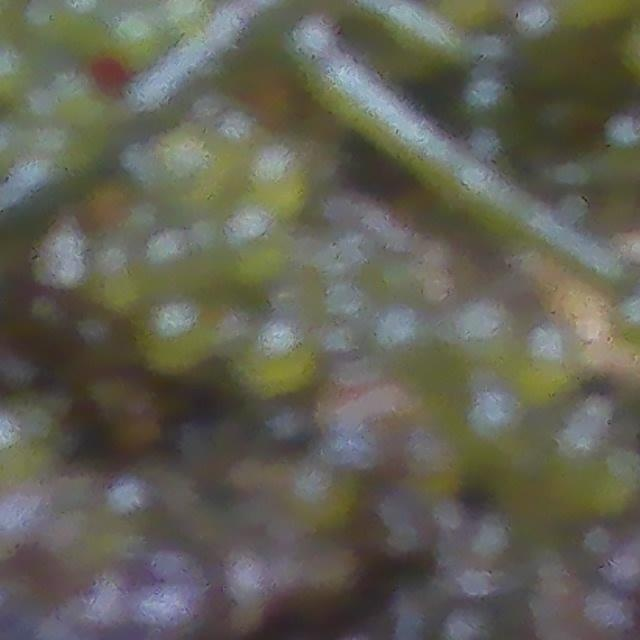SeaGrape: (128, 298, 209, 374), (155, 133, 223, 200), (258, 321, 321, 391), (106, 7, 171, 73)
